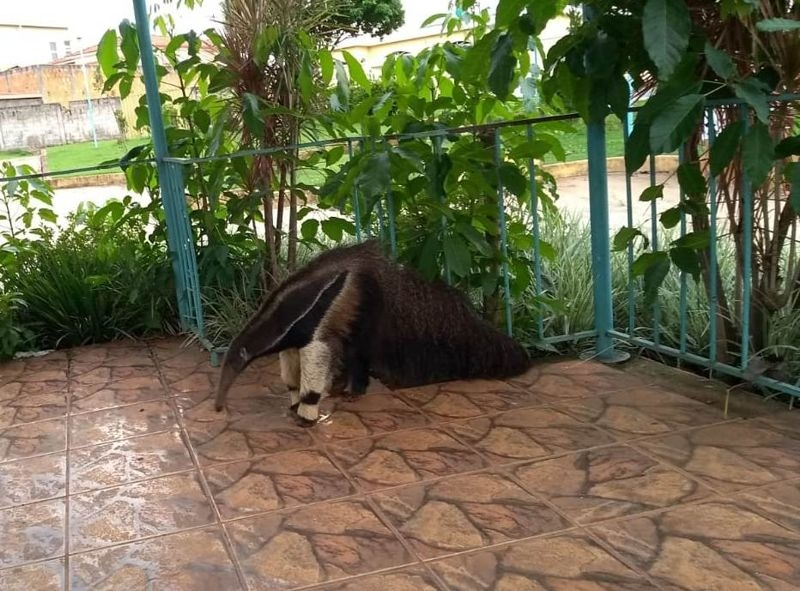TamanduaBandeira: (210, 239, 534, 431)
